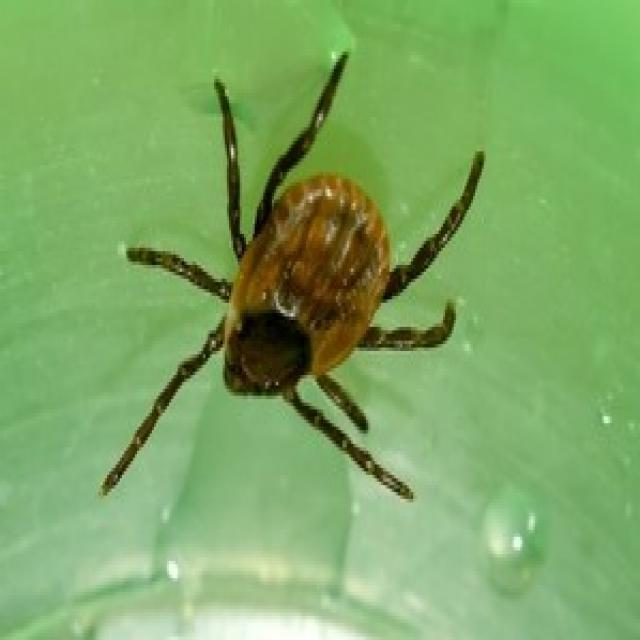Rhipicephalus Sanguineus-F: (101, 52, 484, 499)
